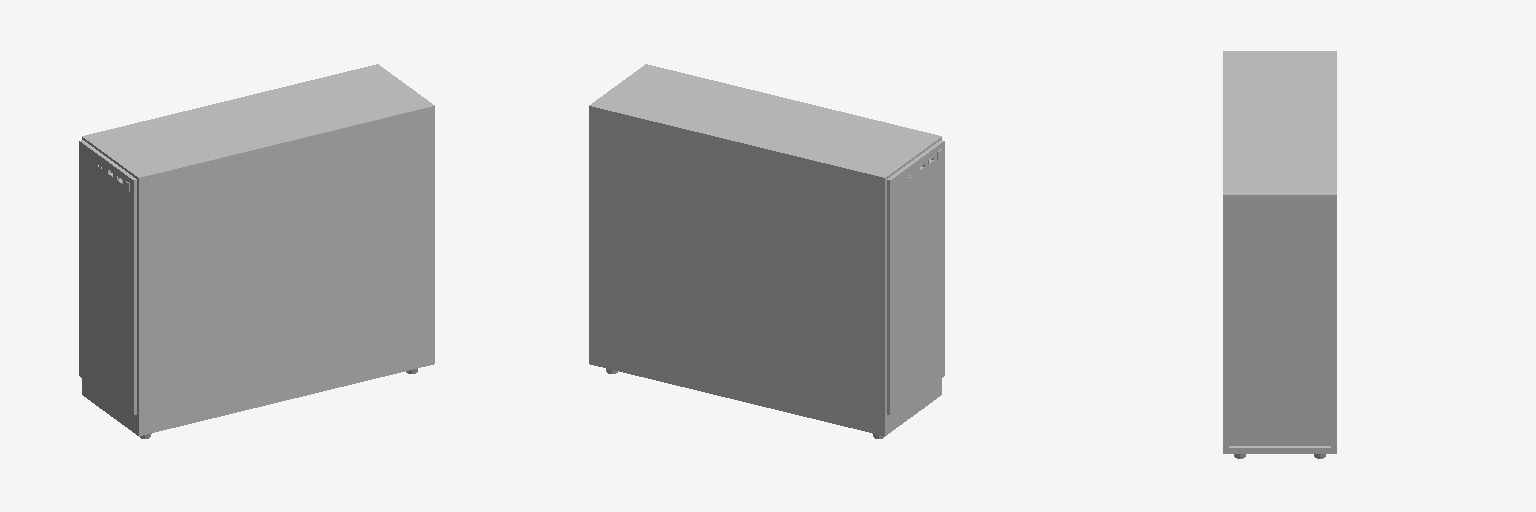
The model's file is Base Unit.obj.
3 renders of one model, left to right at view 1: azimuth 30°, elevation 25°; view 2: azimuth 150°, elevation 25°; view 3: azimuth 270°, elevation 25°, orthographic.
Visible parts, largest first — view 1: PC; view 2: PC; view 3: PC.
Part boxes in pixels (x1,y1,x2,y2): PC: (79, 64, 434, 438); PC: (589, 64, 944, 438); PC: (1223, 51, 1336, 458).
Bounding box in the file's own units: 60.98 × 52 × 20.